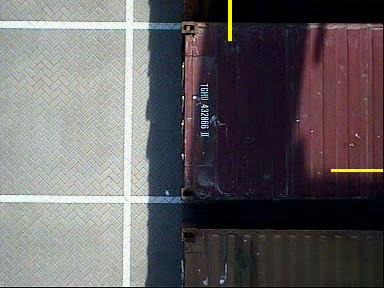groundmarker_2: (199, 62, 234, 106), (202, 235, 237, 279)
